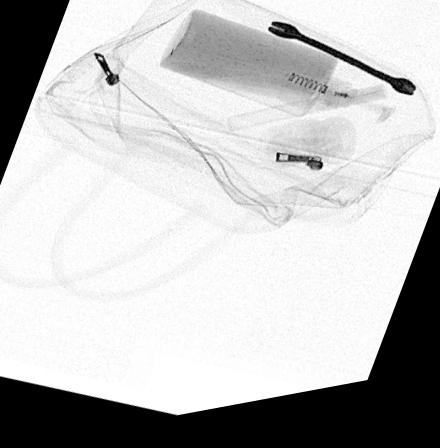Wrench: (264, 30, 417, 111)
